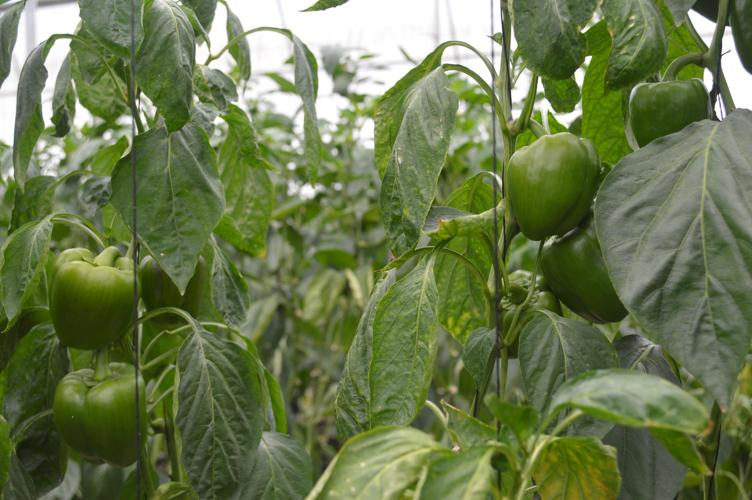BellPepper: (45, 237, 146, 353), (58, 370, 162, 477), (500, 126, 597, 235), (541, 223, 632, 333), (624, 67, 718, 151), (141, 241, 213, 331)
